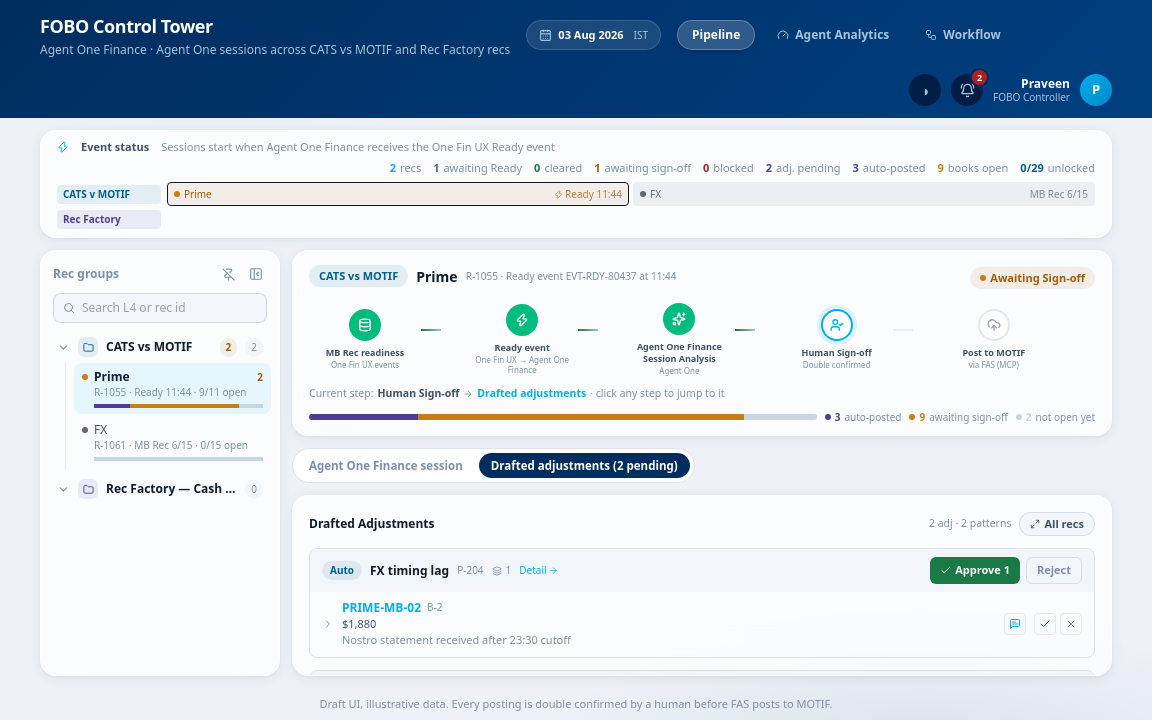
Scenario: ConsoleApp › records an approval only after both confirmations, then shows the rec the API returns
Expected: the text "FOBO Controller" is shown, [993,91,1070,104]
Expected: the tab "Drafted adjustments (2 pending)" is shown, [479,452,690,478]
Click the button named "Approve" at {"x": 1045, "y": 624}, box [1034,613,1056,635]
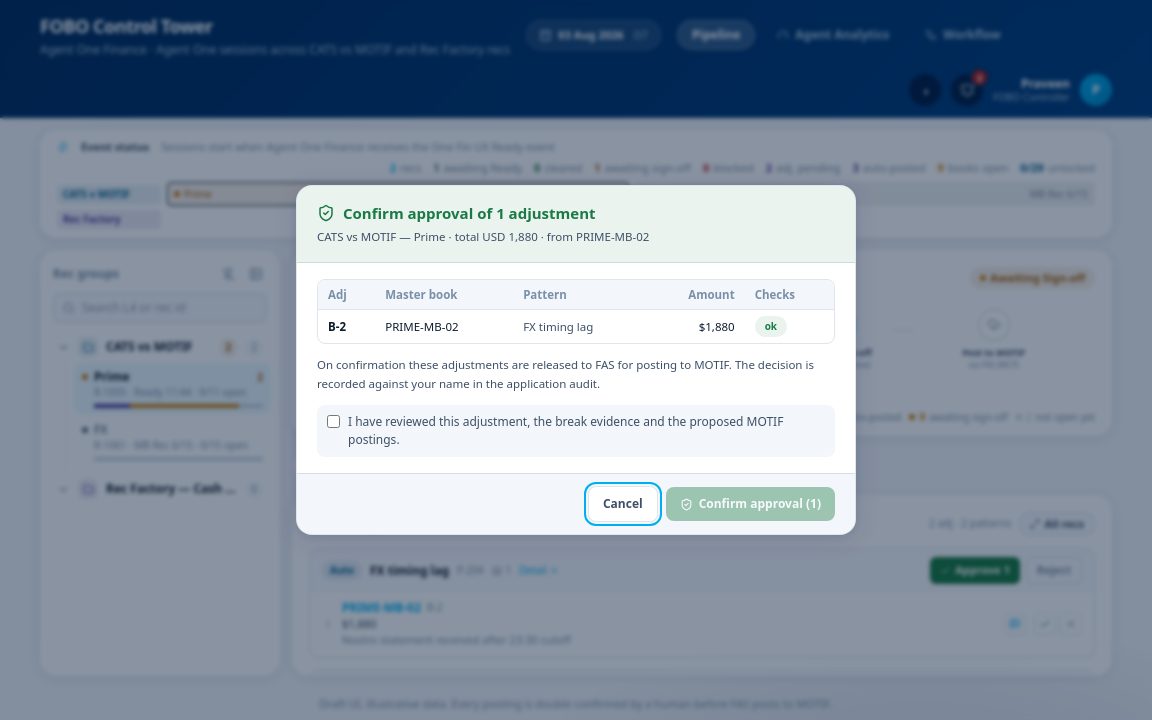
Expected: the button "Confirm approval (1)" is disabled, [666,487,835,521]
Click the checkbox at {"x": 334, "y": 422}, box [327,415,340,428]
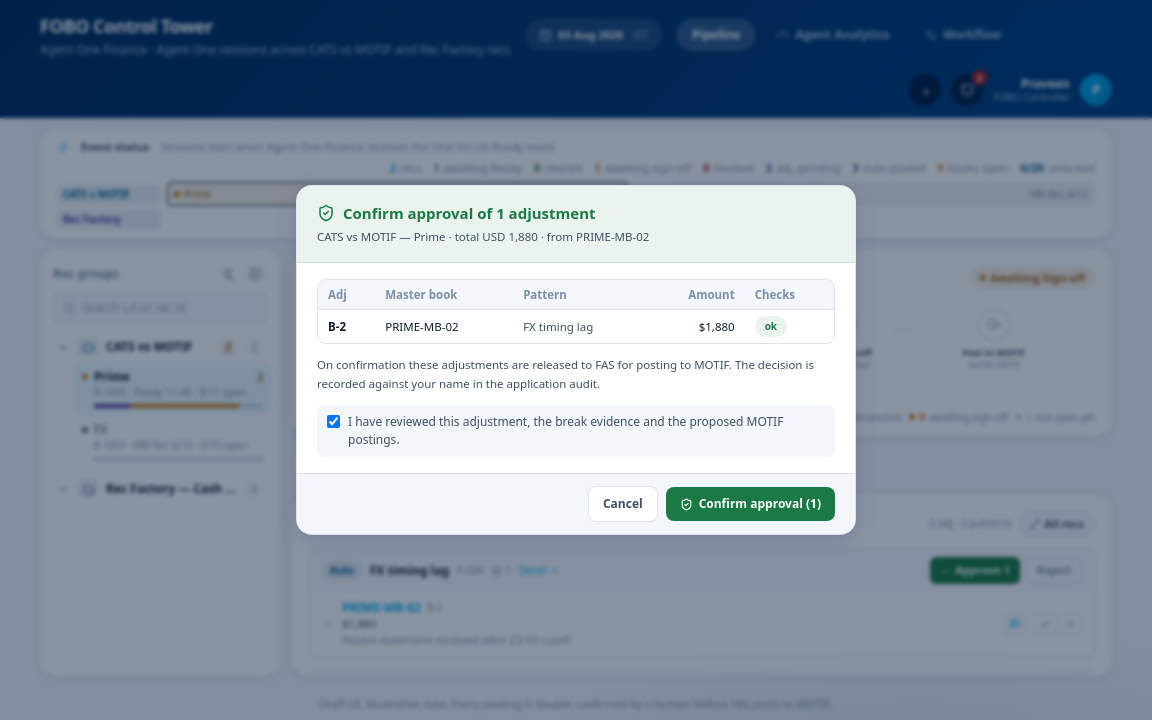
Expected: the button "Confirm approval (1)" is enabled
Click the button "Confirm approval (1)" at {"x": 750, "y": 504}, box [666,487,835,521]
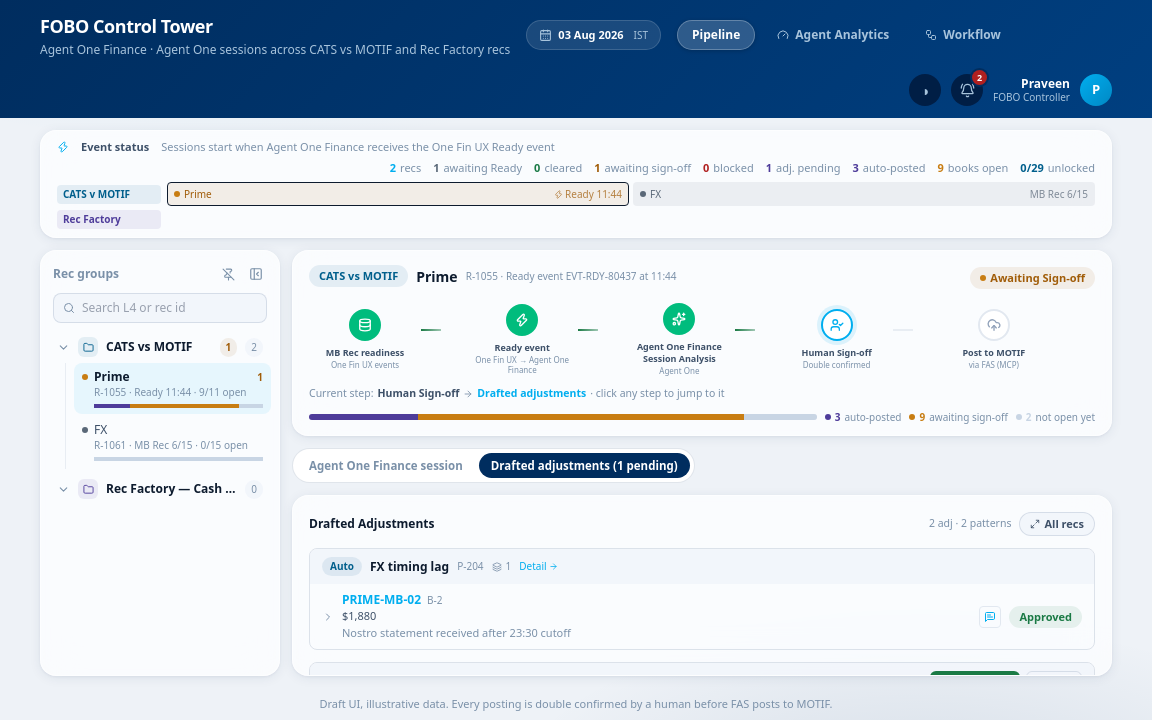
Expected: the dialog is gone
